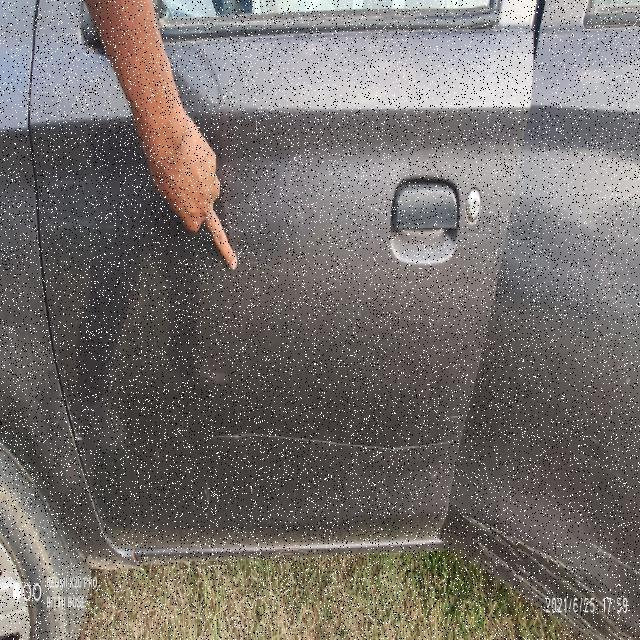doorouter-dent: (78, 47, 466, 553)
